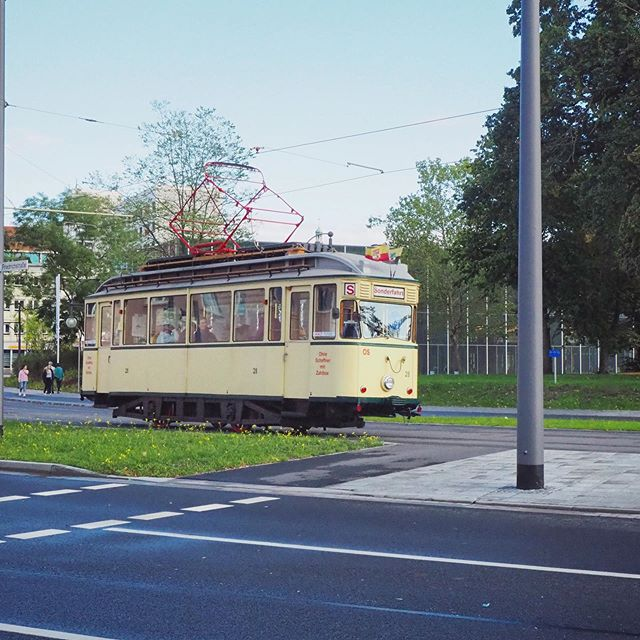grass: (1, 425, 349, 475)
sky: (1, 1, 462, 215)
street: (11, 401, 640, 640)
train: (69, 236, 419, 425)
tree: (479, 1, 640, 344), (118, 93, 267, 256)
